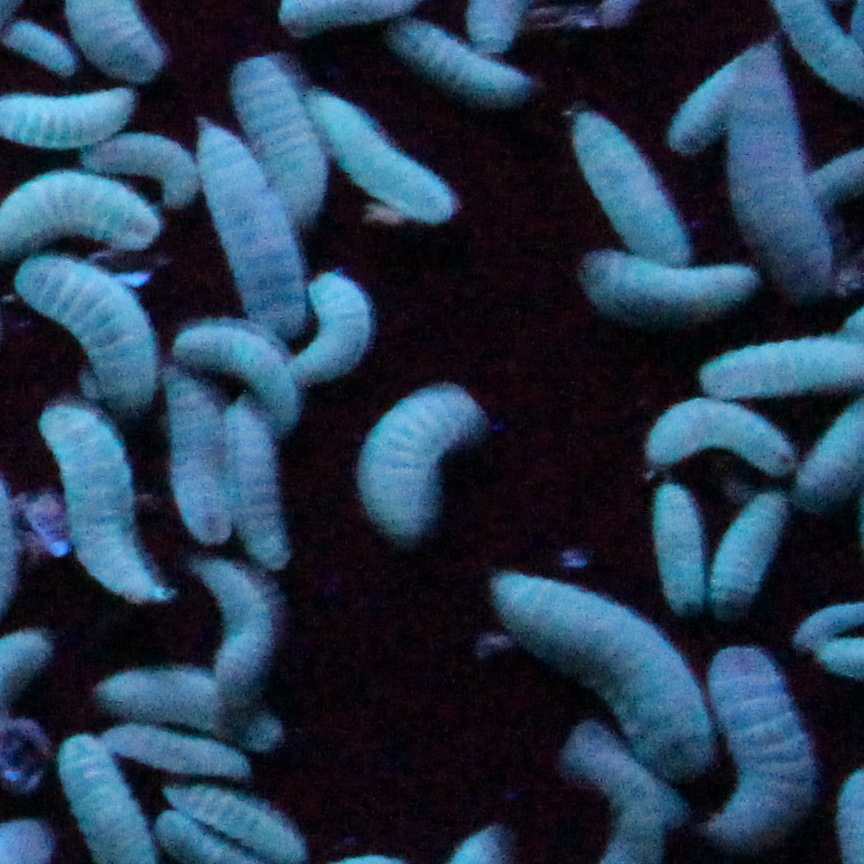larve: (494, 569, 734, 779), (719, 44, 844, 304), (179, 127, 326, 342), (29, 414, 176, 619), (19, 259, 176, 402), (701, 637, 809, 844), (574, 114, 709, 279), (359, 379, 484, 537), (236, 57, 339, 232), (314, 102, 461, 222), (574, 249, 766, 327), (224, 399, 299, 589), (636, 392, 794, 477), (194, 562, 274, 724), (169, 309, 291, 412), (396, 9, 531, 99), (174, 374, 244, 547), (1, 77, 166, 149), (644, 482, 714, 624), (91, 659, 231, 727), (296, 274, 376, 384), (99, 132, 211, 207), (724, 487, 786, 622), (679, 64, 754, 154)
